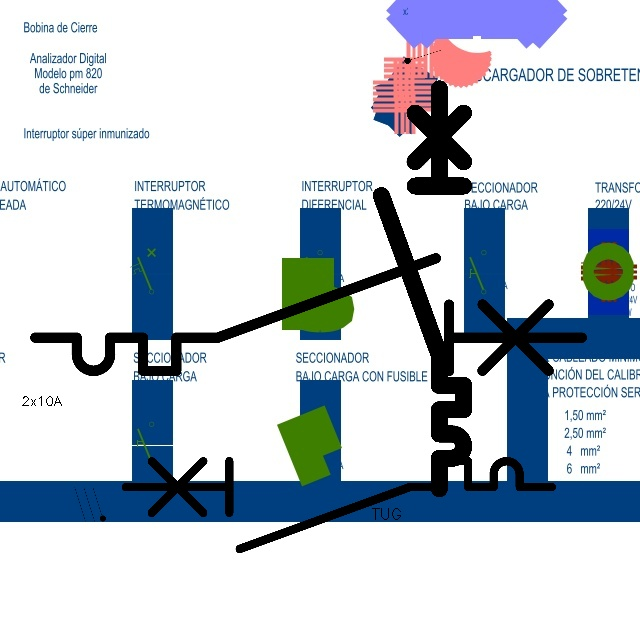interruptor_termomagnetico: (21, 244, 596, 385), (114, 450, 562, 559), (371, 78, 474, 499)
